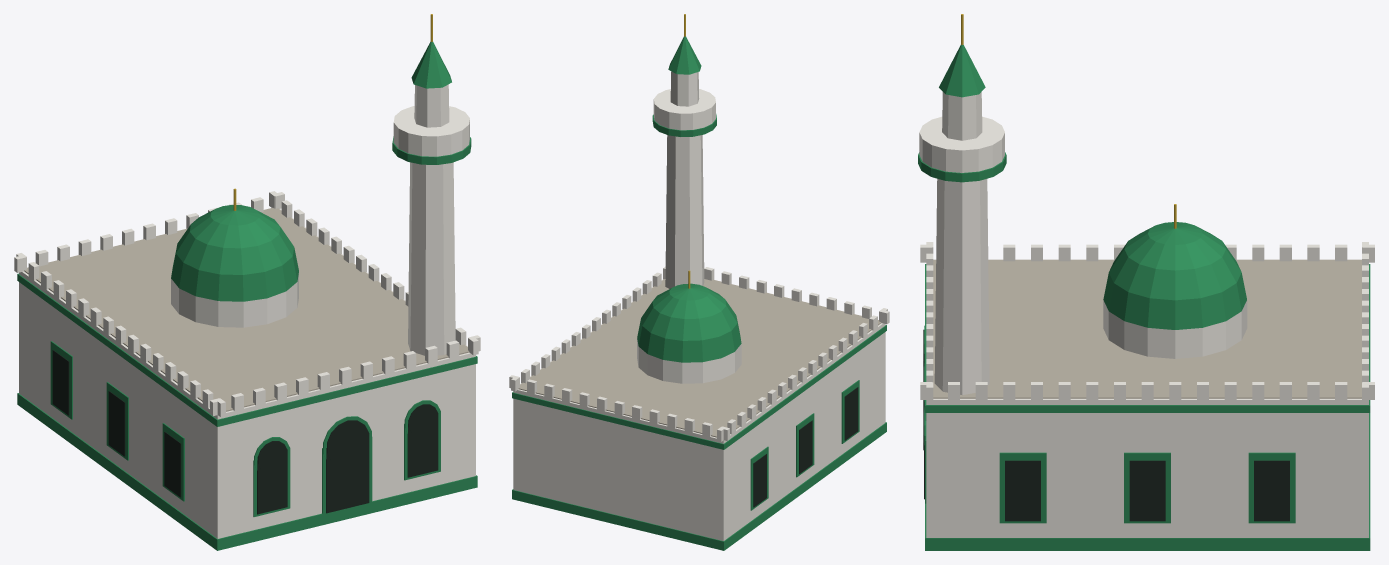
The model's file is mosquee_quartier.glb.
3 renders of one model, left to right at view 1: azimuth 30°, elevation 25°; view 2: azimuth 150°, elevation 25°; view 3: azimuth 270°, elevation 25°, orthographic. The views are drawn at different scales.
Visible parts, largest first — view 1: mosquee_quartier; view 2: mosquee_quartier; view 3: mosquee_quartier.
Boxes of the visible parts, x1,y1,x2,y2 form: mosquee_quartier: [14, 14, 480, 550]; mosquee_quartier: [509, 14, 889, 550]; mosquee_quartier: [918, 14, 1374, 550].
Bounding box in the file's own units: 12.52 × 20.77 × 16.52.
